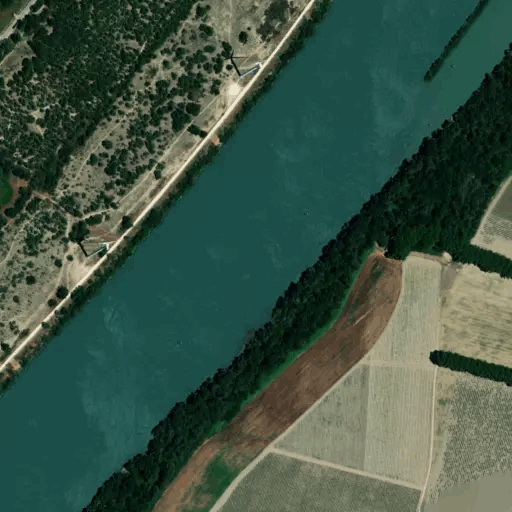wt: (215, 37, 267, 86), (66, 226, 114, 259)
